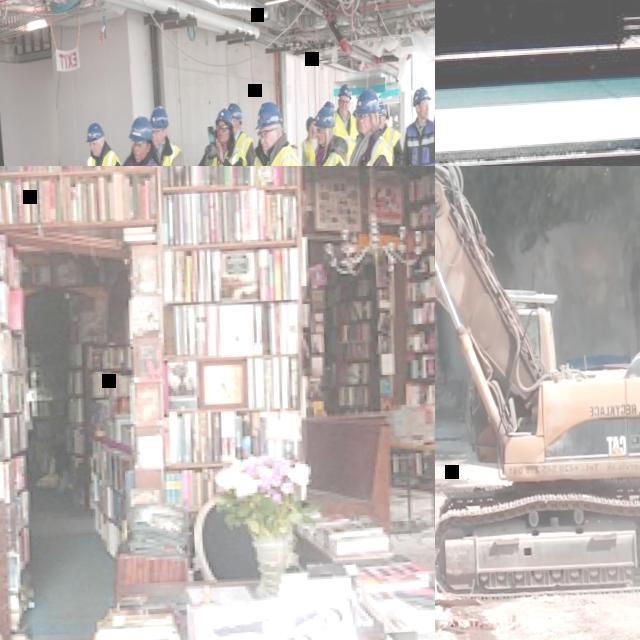helmet: (255, 100, 282, 130), (353, 86, 380, 115), (128, 114, 154, 142), (314, 105, 335, 129), (150, 105, 170, 128), (86, 122, 106, 144), (215, 106, 235, 127), (412, 86, 432, 106), (228, 102, 244, 120), (338, 84, 353, 100), (306, 115, 317, 131), (378, 103, 389, 116), (324, 100, 336, 110)
vest: (404, 118, 435, 166), (333, 110, 359, 166), (249, 143, 310, 166), (355, 135, 398, 166), (199, 143, 249, 166), (381, 126, 405, 166), (150, 142, 185, 166), (233, 132, 257, 166), (86, 148, 125, 166), (301, 139, 317, 166)
